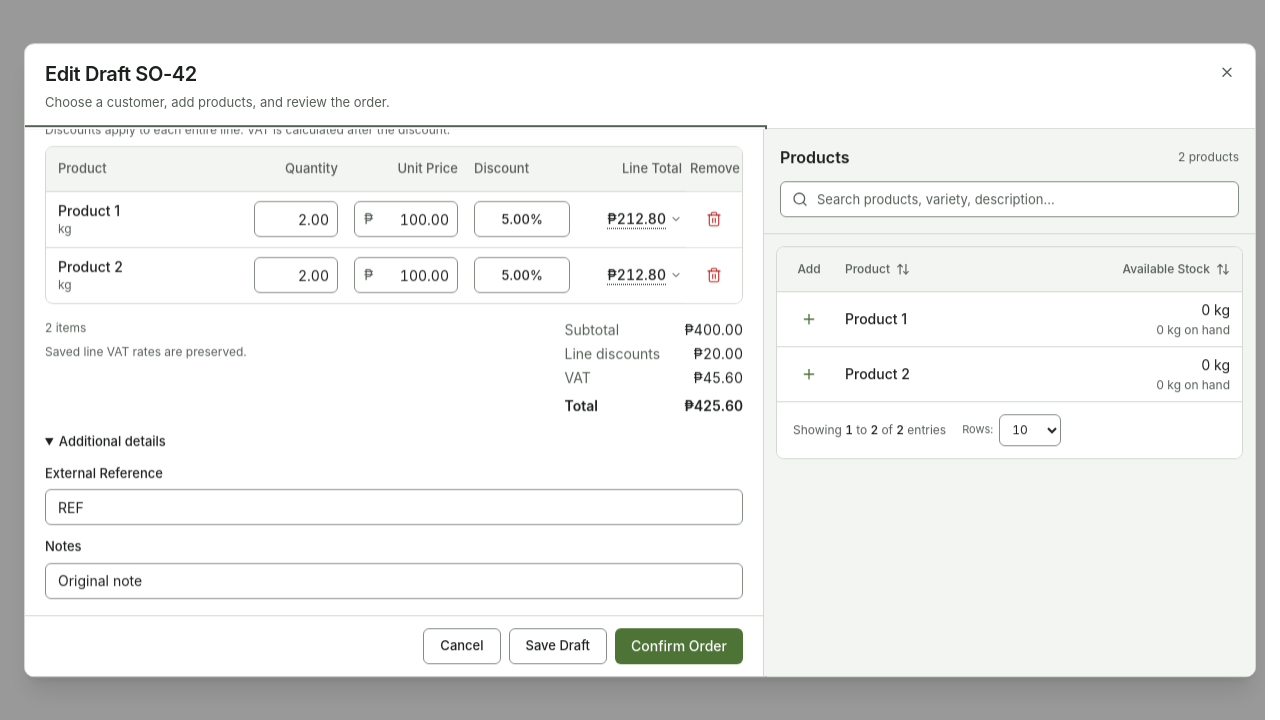
Test: sales draft integration › preserves edits in the conflict UI until explicitly reloading and disables both submit actions
(page scrolled)
Replace the text in the field labelled "Notes" with "My note" at {"x": 394, "y": 581}, box [45,563,743,599]
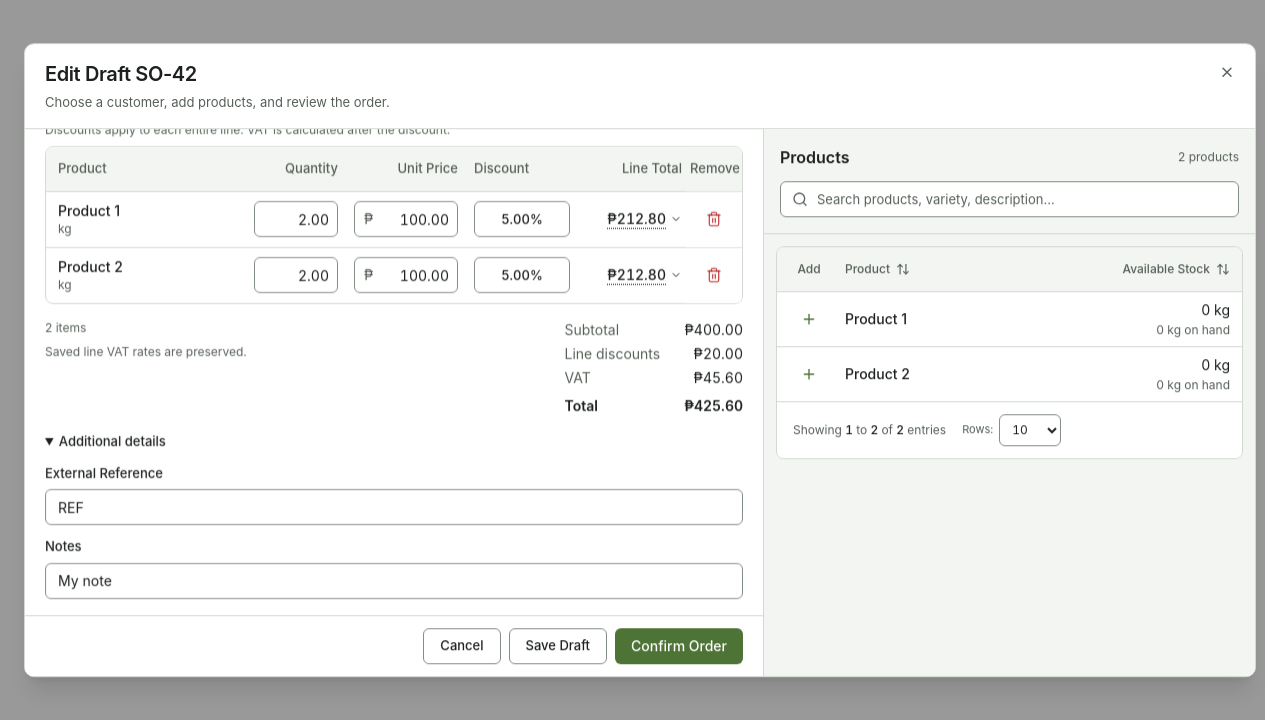
Click the button "Save Draft".
click(558, 646)  # box [508,628,607,664]
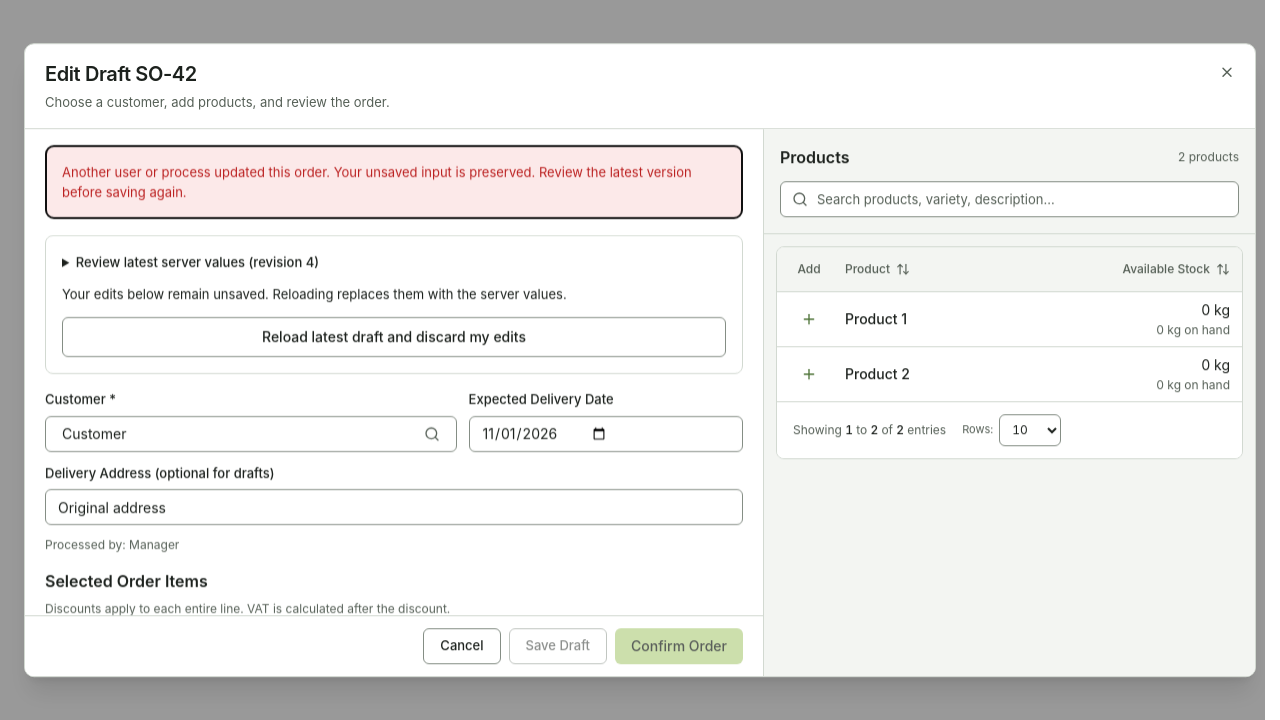
Expected: the text "Another user or process" is shown, [62,164,692,200]
Expected: the button "Save Draft" is disabled, [508,628,607,664]
Expected: the button "Confirm Order" is disabled, [615,628,743,664]
Submit the form named "Save Draft", box [25,129,763,676]
Click the heading "Review latest server values (revision 4)".
click(197, 262)  # box [76,254,319,270]
(page scrolled)
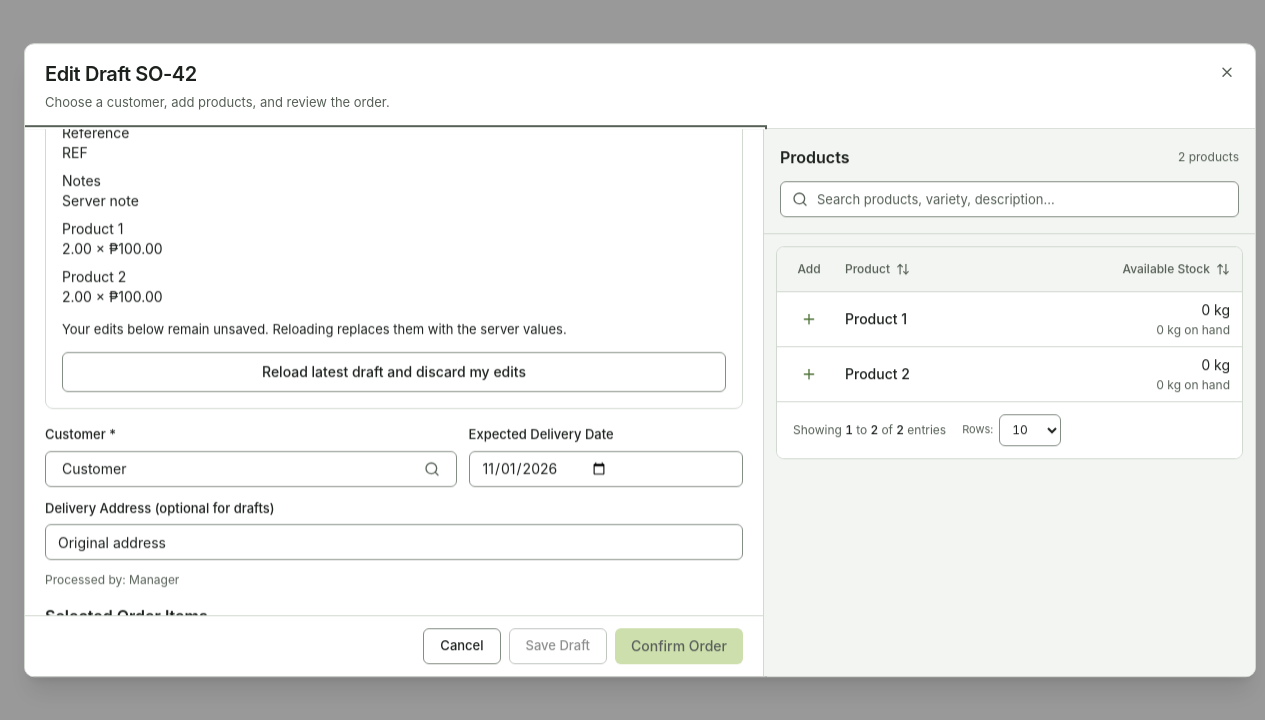
Expected: the text "Server note" is shown, [62,192,139,209]
Click the button "Reload latest draft and discard my edits".
click(394, 372)  # box [62,352,726,392]
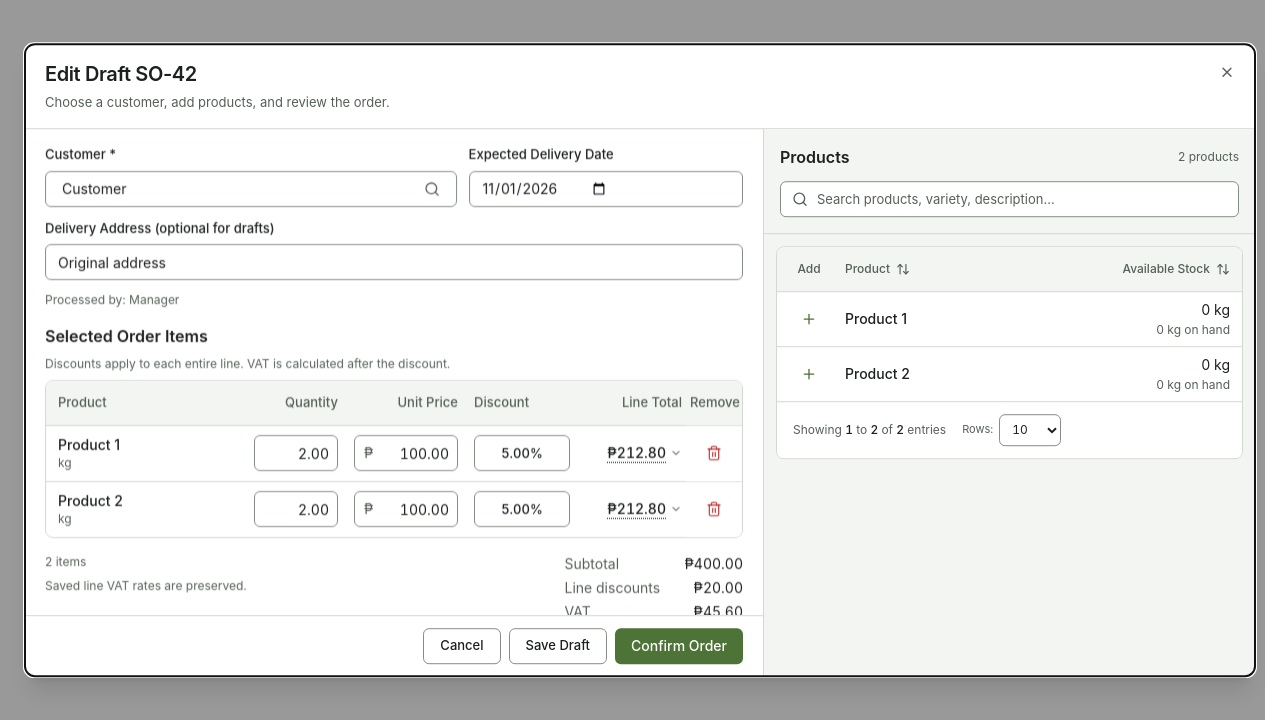
Expected: the button "Save Draft" is enabled, [508,628,607,664]
